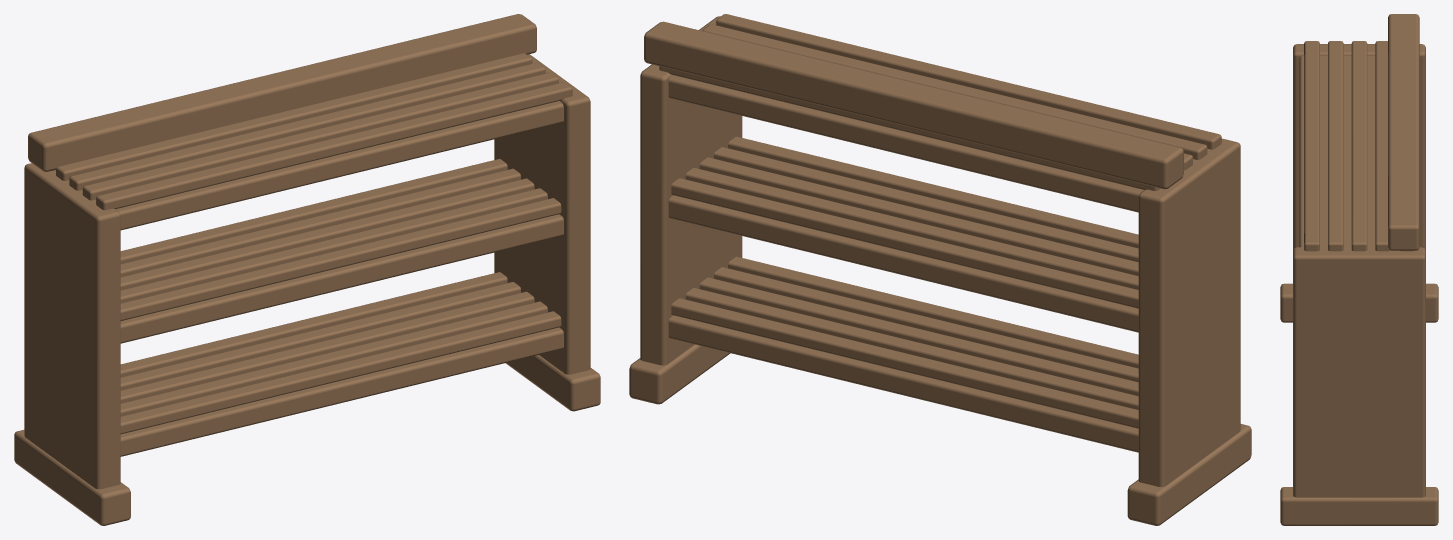
The model's file is shoe-rack-19712e40.glb.
3 renders of one model, left to right at view 1: azimuth 30°, elevation 25°; view 2: azimuth 150°, elevation 25°; view 3: azimuth 270°, elevation 25°, orthographic. The views are drawn at different scales.
Parts seen in each view (by area): view 1: shoe-rack; view 2: shoe-rack; view 3: shoe-rack.
Boxes of the visible parts, x1,y1,x2,y2 form: shoe-rack: (14, 14, 600, 525); shoe-rack: (629, 14, 1251, 525); shoe-rack: (1280, 14, 1438, 525).
Bounding box in the file's own units: 1.62 × 1.05 × 0.5.
